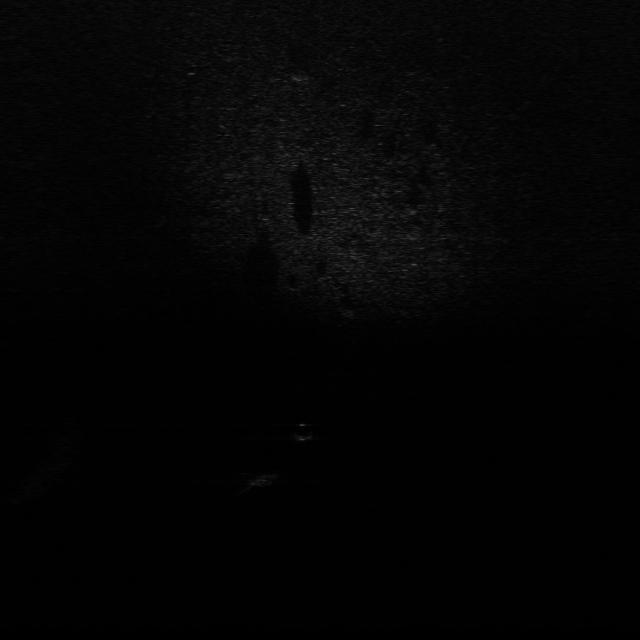ball: (292, 417, 319, 443)
square cage: (233, 467, 296, 491)
